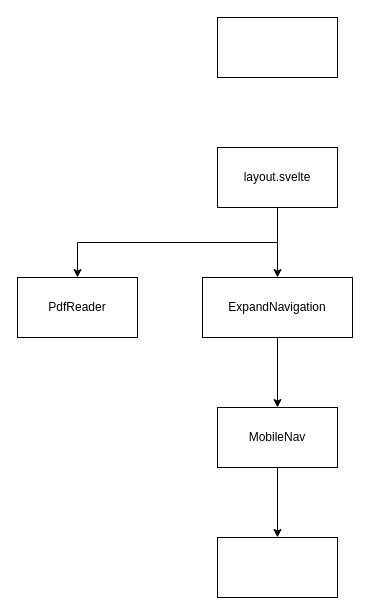
Image size: 370x615. Some labels were removed from this diagram. The shapes that lost their labels are listed below. From the top down, each one's centre as x and y in pixels, then its label:
(x=277, y=47): App app.d.ts
(x=277, y=567): NavMenu
